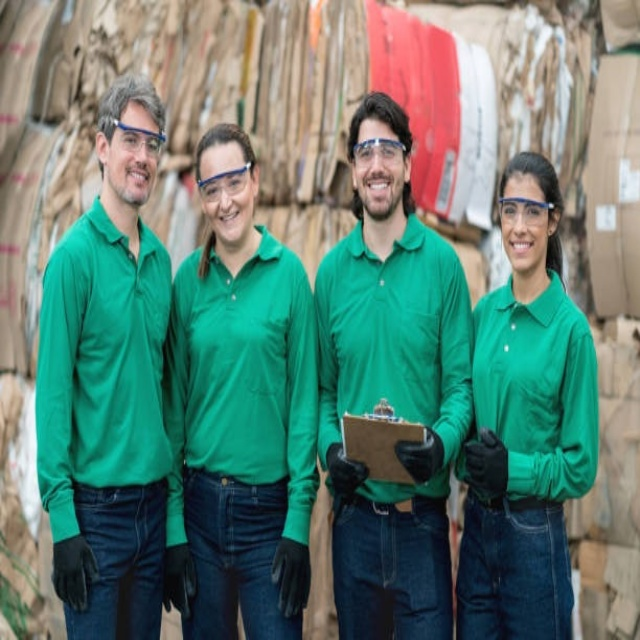Gafas: (110, 121, 166, 158), (197, 161, 252, 198), (498, 196, 555, 227), (353, 137, 406, 163)
Guantes: (51, 537, 98, 612), (462, 428, 509, 501), (270, 538, 311, 618), (394, 428, 444, 486), (325, 442, 369, 503), (164, 543, 197, 619)
Sin_mascara: (211, 204, 245, 237), (123, 162, 154, 198), (361, 173, 392, 207), (507, 235, 535, 268)
